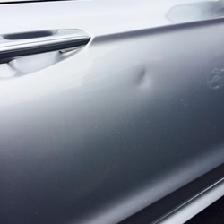dent: (107, 41, 196, 133)
